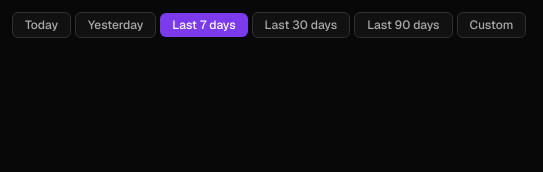
Test: DateRangePicker › shows custom date inputs when Custom is clicked
Click the button with test id "preset-custom" at (491, 25), box [456,12,526,38]
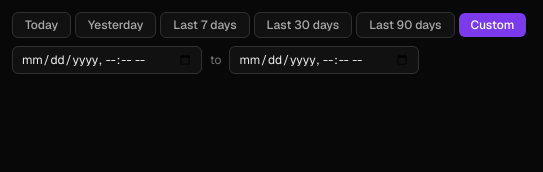
Result: the element with test id "custom-inputs" is shown at [12,46,419,74]
Result: the field with test id "custom-from" is shown at [12,46,202,74]
Result: the field with test id "custom-to" is shown at [229,46,419,74]
